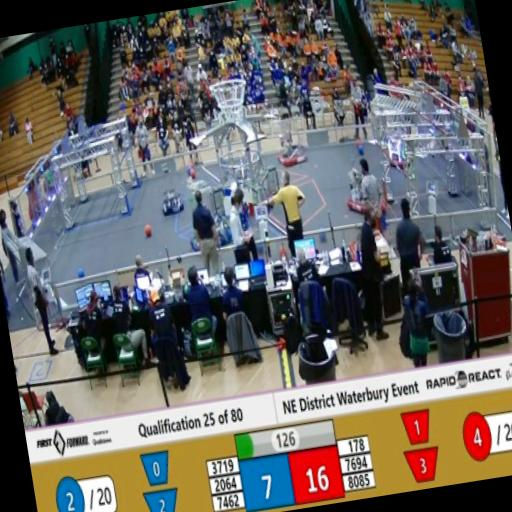robot: (340, 153, 388, 222), (206, 178, 244, 245), (269, 107, 310, 168), (184, 186, 218, 254), (154, 155, 186, 214), (382, 120, 414, 174)
